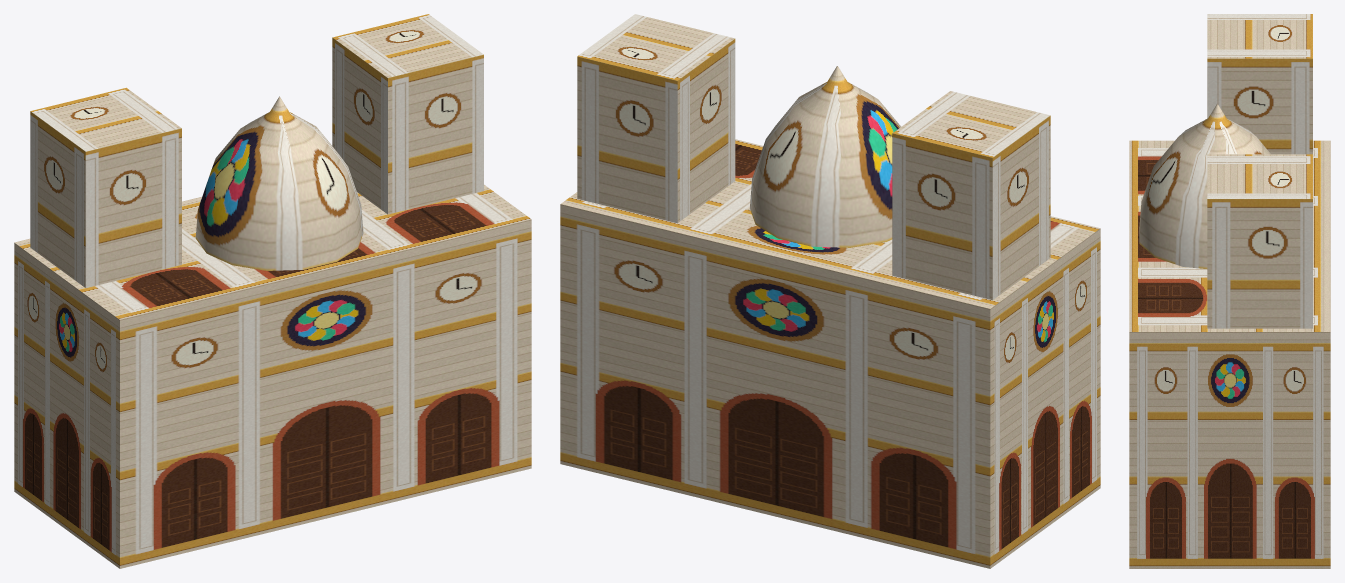
File: catedral_quibdo.obj
3 renders of one model, left to right at view 1: azimuth 30°, elevation 25°; view 2: azimuth 150°, elevation 25°; view 3: azimuth 270°, elevation 25°, orthographic. The views are drawn at different scales.
Visible parts, largest first — view 1: catedral_quibdo; view 2: catedral_quibdo; view 3: catedral_quibdo.
Boxes of the visible parts, x1,y1,x2,y2 form: catedral_quibdo: (14,14,531,568); catedral_quibdo: (560,14,1100,568); catedral_quibdo: (1129,14,1330,568).
Bounding box in the file's own units: 18 × 16.2 × 8.
Materials: 1 (1 with a texture image).
